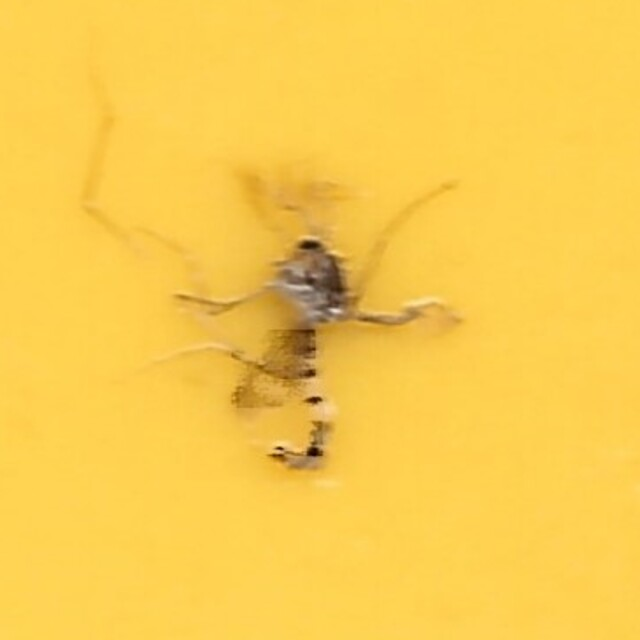Nematocera: (175, 160, 465, 480)
